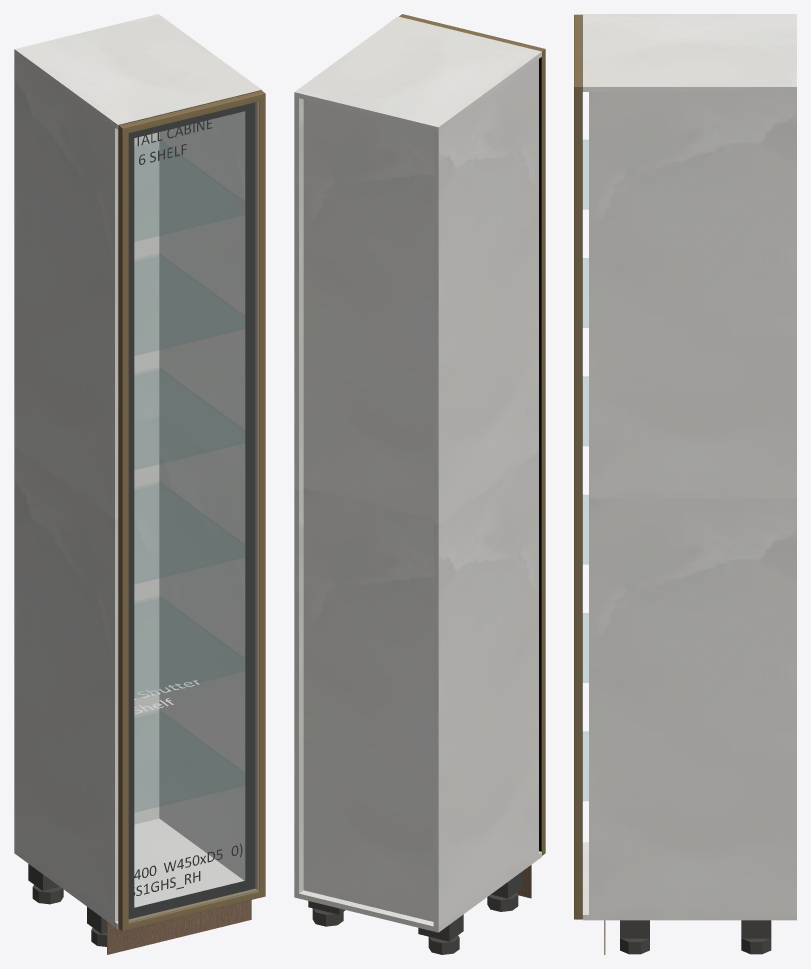
Rendered from TC-SH-STD-GL-6SG-RHS-XXX-450-2400-560-15.glb.
3 renders of one model, left to right at view 1: azimuth 30°, elevation 25°; view 2: azimuth 150°, elevation 25°; view 3: azimuth 270°, elevation 25°, orthographic. The views are drawn at different scales.
Visible parts, largest first — view 1: Object_node_29, TP_node_0, TP_node_1, Neon 22 Profile ALU PROF NEON 20 L21XH22.5MM 3MTR S2/405 SEC (×4), TP_node_2, Object_node_31, TP, TP_node, Object_node_33, 2D text; view 2: TP_node_2, TP_node_0, TP, TP_node_1, Neon 22 Profile ALU PROF NEON 20 L21XH22.5MM 3MTR S2/405 SEC (×2), Object_node_31, TP_node; view 3: TP_node_1, TP, Neon 22 Profile ALU PROF NEON 20 L21XH22.5MM 3MTR S2/405 SEC (×2), TP_node, Object_node_31, Plate_node, Plate_node_1.
Part boxes in pixels (<box>): Object_node_29: <box>129,102,258,922</box>; TP_node_0: <box>14,54,118,921</box>; TP_node_1: <box>159,111,245,880</box>; Neon 22 Profile ALU PROF NEON 20 L21XH22.5MM 3MTR S2/405 SEC (×4): <box>118,90,265,931</box>; TP_node_2: <box>134,132,159,824</box>; Object_node_31: <box>118,90,261,928</box>; TP: <box>14,14,261,129</box>; TP_node: <box>14,818,243,928</box>; Object_node_33: <box>107,900,251,954</box>; 2D text: <box>137,120,212,164</box>; TP_node_2: <box>303,99,433,921</box>; TP_node_0: <box>433,59,538,927</box>; TP: <box>294,16,541,132</box>; TP_node_1: <box>294,97,303,893</box>; Neon 22 Profile ALU PROF NEON 20 L21XH22.5MM 3MTR S2/405 SEC (×2): <box>399,14,545,855</box>; Object_node_31: <box>539,57,541,851</box>; TP_node: <box>294,851,541,932</box>; TP_node_1: <box>589,92,796,914</box>; TP: <box>582,14,796,91</box>; Neon 22 Profile ALU PROF NEON 20 L21XH22.5MM 3MTR S2/405 SEC (×2): <box>574,14,582,919</box>; TP_node: <box>582,842,796,920</box>; Object_node_31: <box>582,15,582,918</box>; Plate_node: <box>741,920,771,938</box>; Plate_node_1: <box>620,920,649,938</box>.
Size of what is drawn, in the model's own units: 0.4502 by 2.5 by 0.582.
9 materials, 2 textured.
